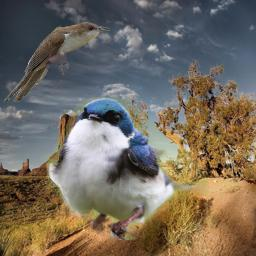Cuckoo: (4, 22, 110, 102)
Swallow: (46, 97, 209, 240)
